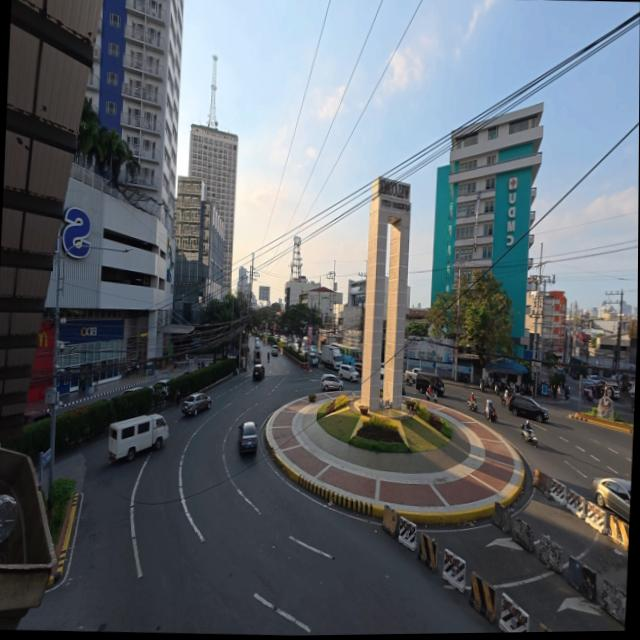Jeepneys: (252, 348, 260, 363)
car: (590, 478, 630, 524), (508, 395, 548, 422), (181, 393, 211, 415), (238, 421, 257, 452), (630, 442, 640, 485), (23, 410, 49, 425), (337, 364, 358, 382), (320, 374, 342, 391), (148, 379, 168, 397), (251, 364, 264, 380), (120, 386, 142, 395), (308, 353, 317, 365), (587, 375, 599, 383), (271, 344, 279, 356), (353, 363, 361, 374), (378, 364, 383, 379), (279, 335, 286, 344), (253, 338, 259, 347), (309, 346, 315, 353)
motorcycle: (520, 424, 536, 447), (484, 407, 497, 423), (479, 378, 491, 392), (424, 392, 437, 403), (466, 400, 477, 412), (405, 373, 415, 386), (500, 396, 510, 408), (564, 388, 569, 400), (266, 354, 268, 362)
trucks: (320, 345, 341, 370)
vans: (108, 415, 167, 460), (415, 372, 443, 396), (604, 383, 619, 399)
